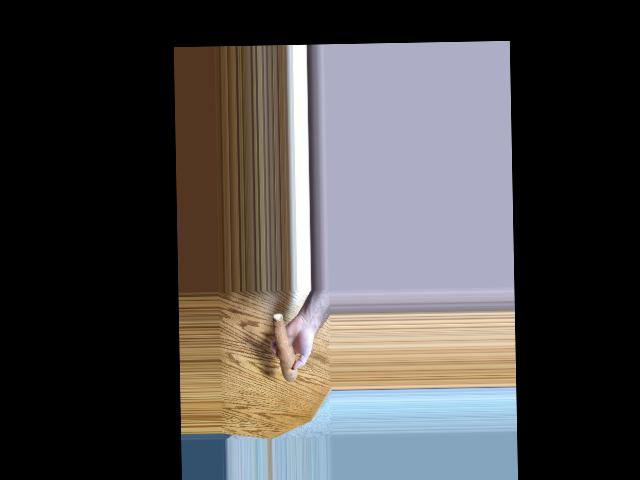sweet_potato: (274, 310, 293, 385)
